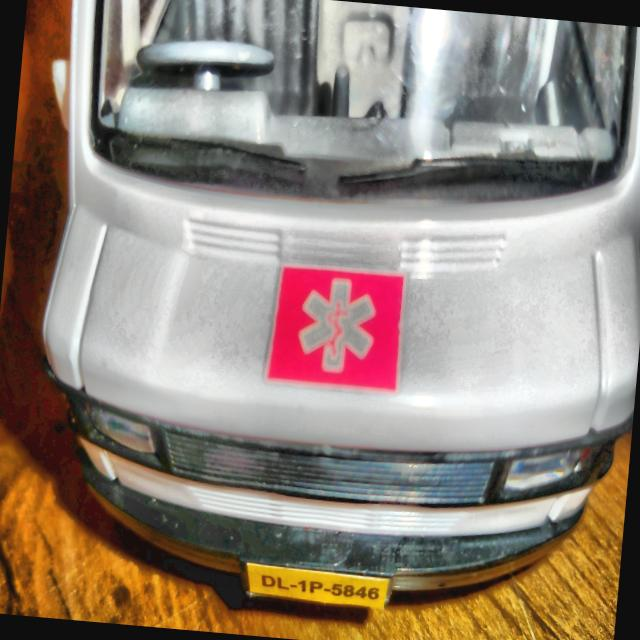Ambulance: (21, 0, 640, 631), (266, 264, 406, 392)
